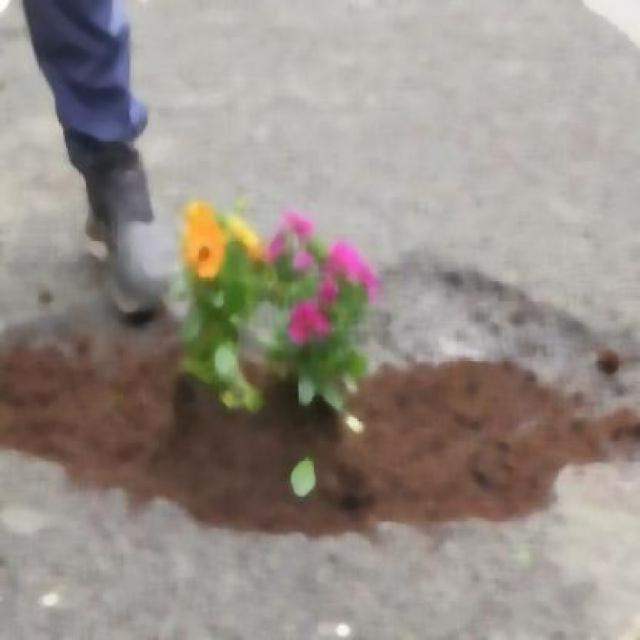pothole: (19, 361, 562, 512)
